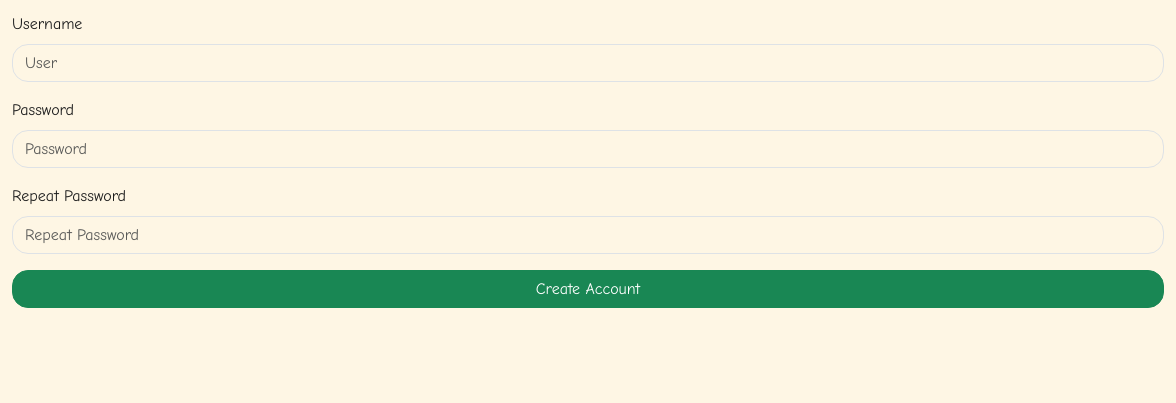
CreateAccountForm › shows an error message if password is too short
The image size is (1176, 403).
Type "testuser" into the field labelled "Username" at (588, 63), box x1=12 y1=44 x2=1164 y2=82
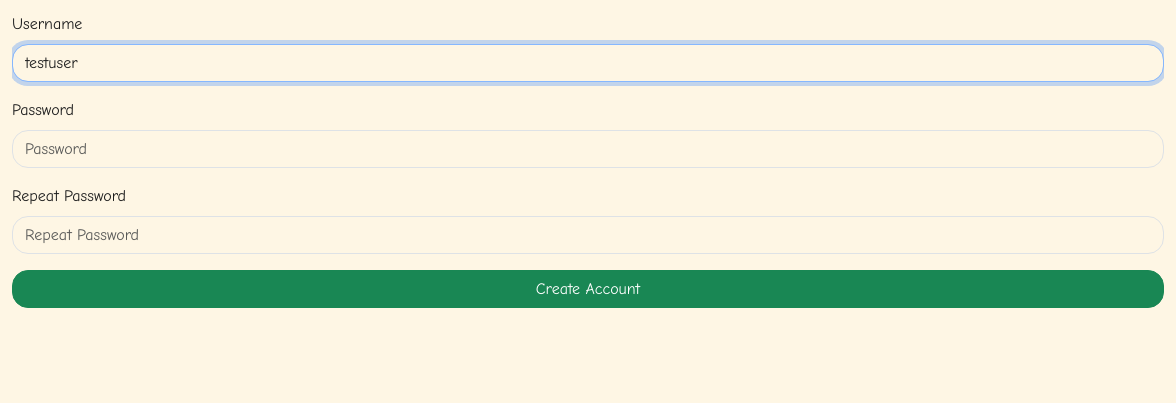
Type "pass" into the password field labelled "Password" at (588, 149), box x1=12 y1=130 x2=1164 y2=168
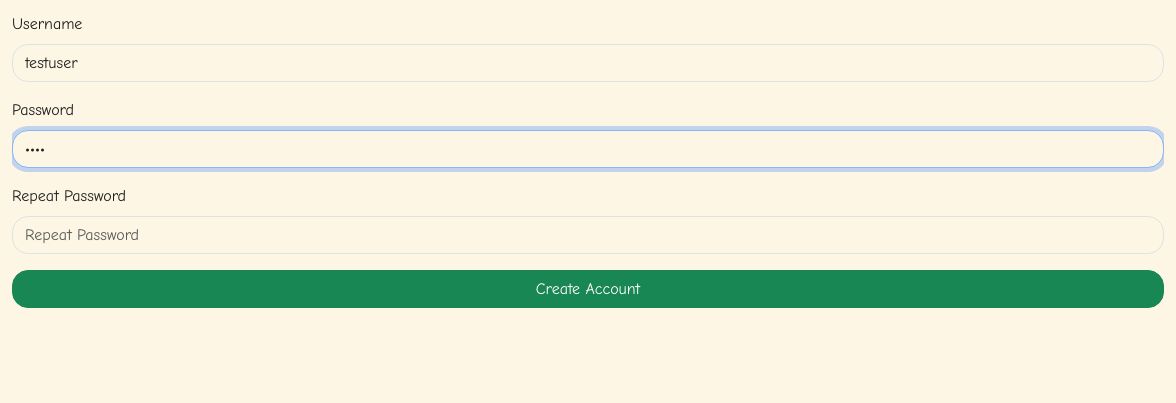
Type "pass" into the password field labelled "Repeat Password" at (588, 235), box x1=12 y1=216 x2=1164 y2=254
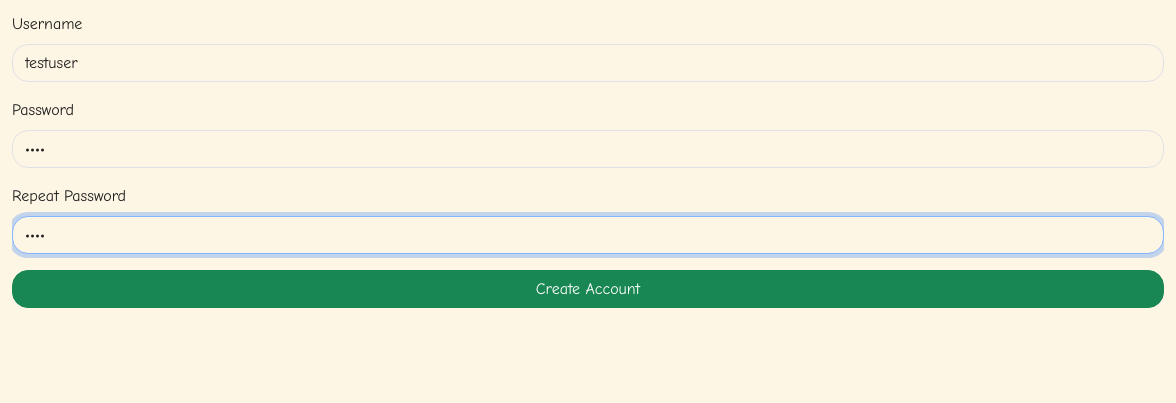
Click the button "Create Account" at (588, 289), box x1=12 y1=270 x2=1164 y2=308
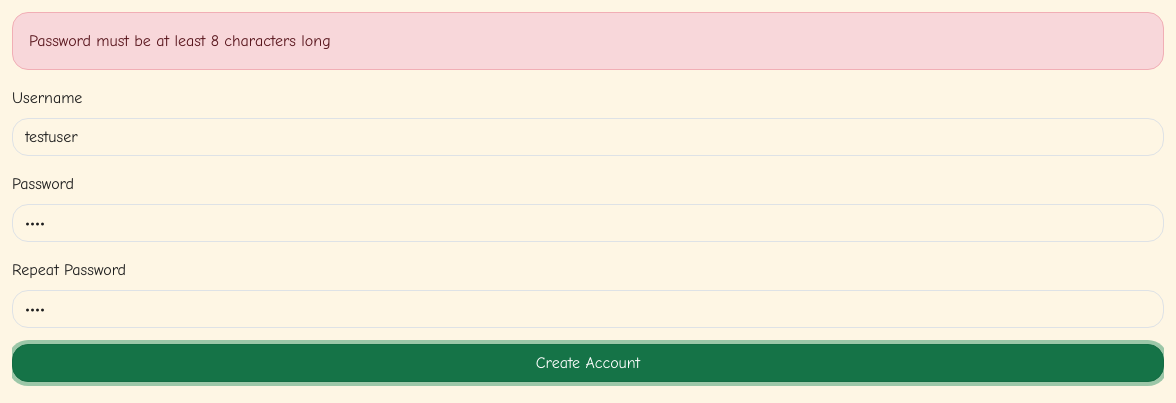
Result: the text "Password must be at least 8 characters long" is shown at x1=12 y1=12 x2=1164 y2=70
